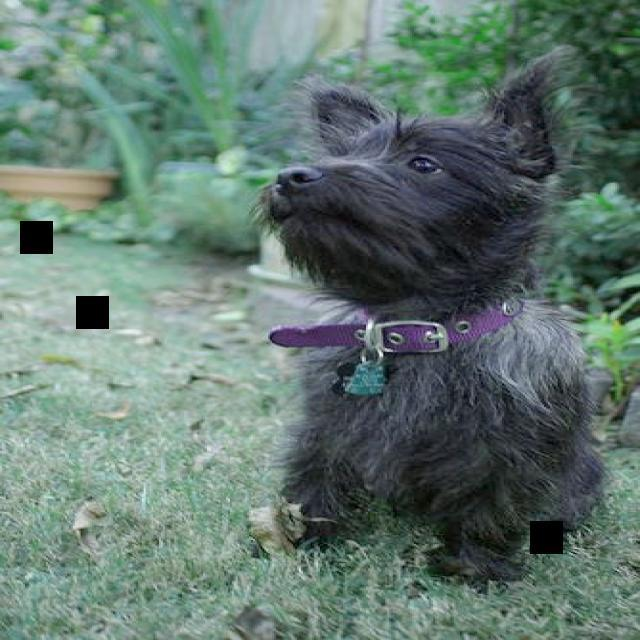adult_dog: (246, 39, 608, 584)
